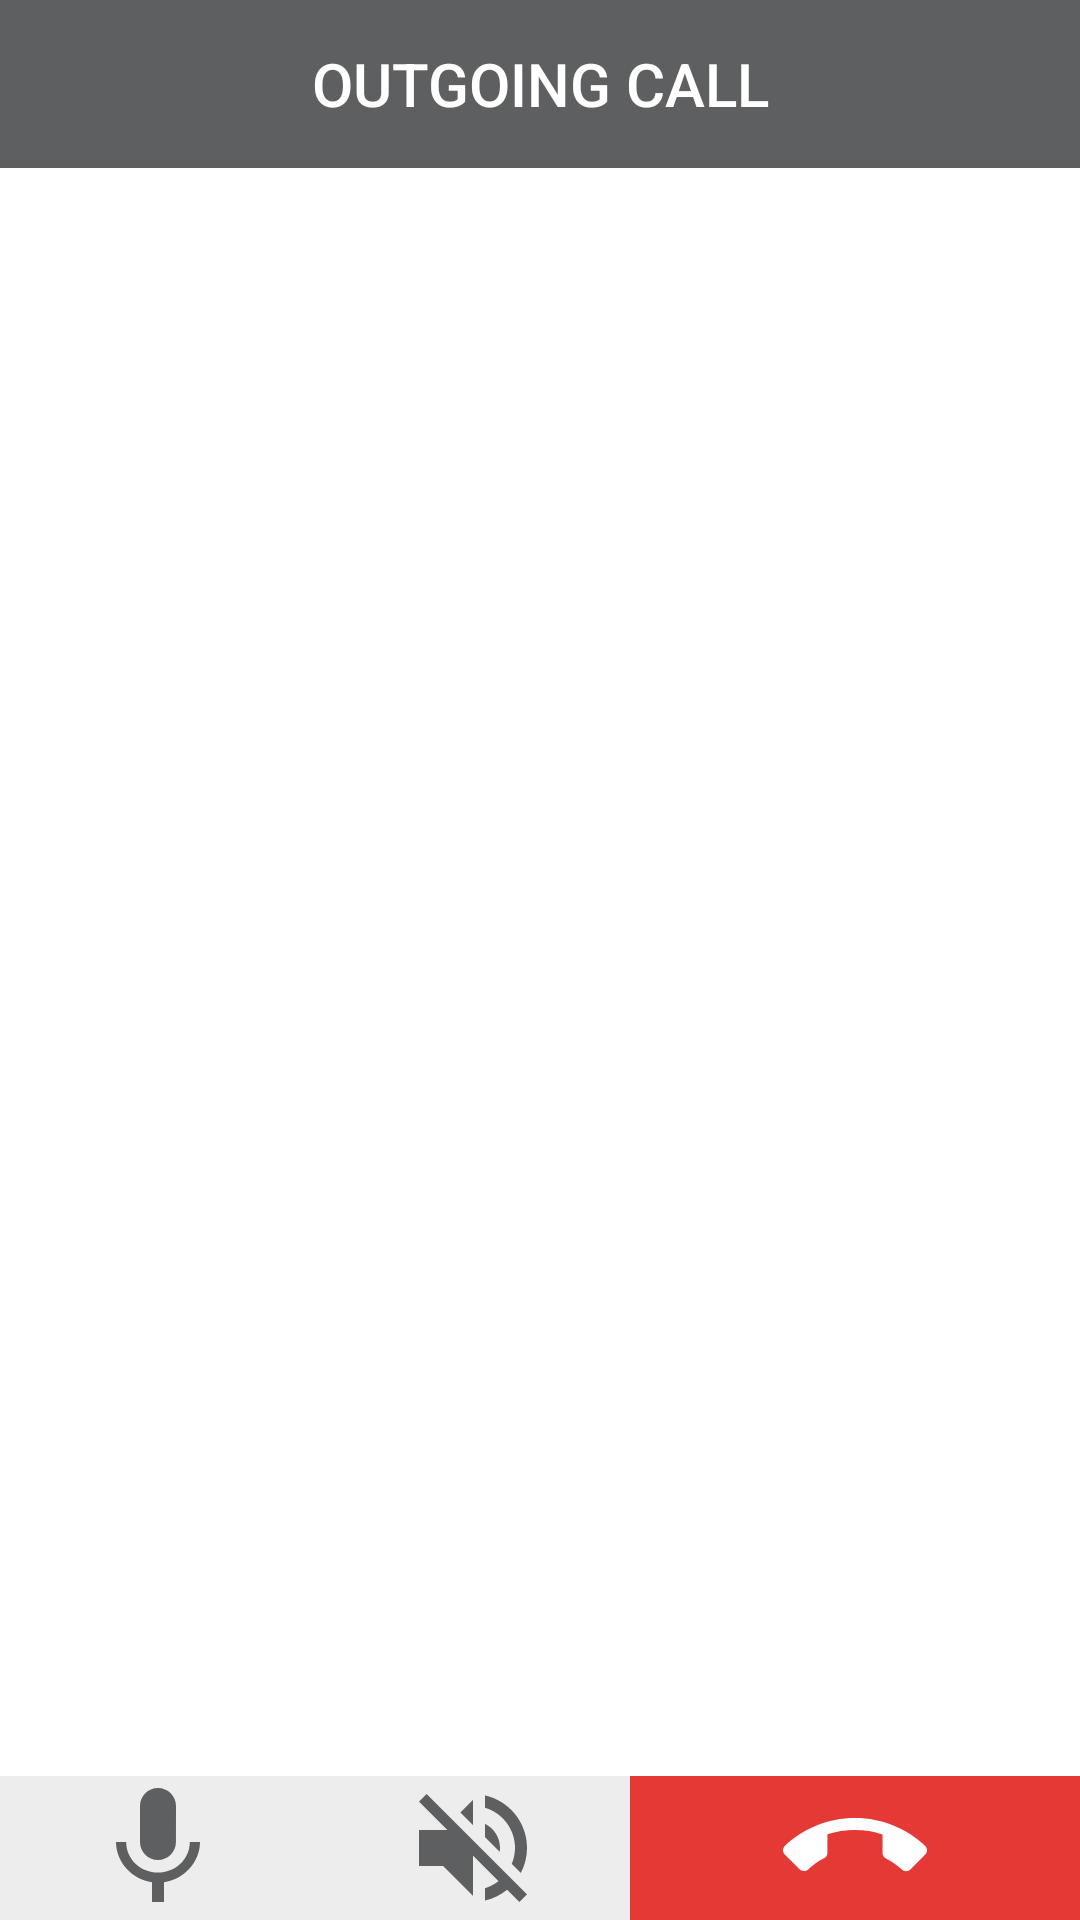

Screen size 1080 × 1920. Icon name, then its center in pixels as [x,y]:
mic: [158,1845]
